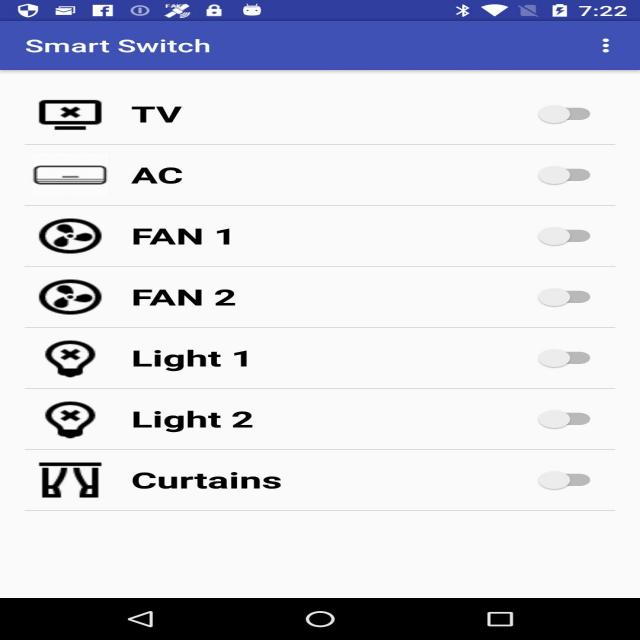button: (521, 456, 605, 497), (528, 274, 605, 317), (496, 106, 614, 134), (528, 335, 603, 376), (529, 399, 602, 438), (521, 159, 603, 192), (534, 212, 600, 252)
icon: (583, 32, 634, 64)
image: (14, 32, 234, 62), (22, 274, 118, 321), (21, 91, 110, 138), (30, 332, 110, 384), (33, 458, 114, 509), (26, 155, 115, 195), (32, 213, 108, 258), (30, 396, 101, 444)
text: (129, 465, 297, 507), (114, 401, 264, 441), (122, 218, 247, 260), (118, 343, 260, 379), (129, 280, 258, 319), (127, 156, 203, 195), (126, 98, 201, 130)
